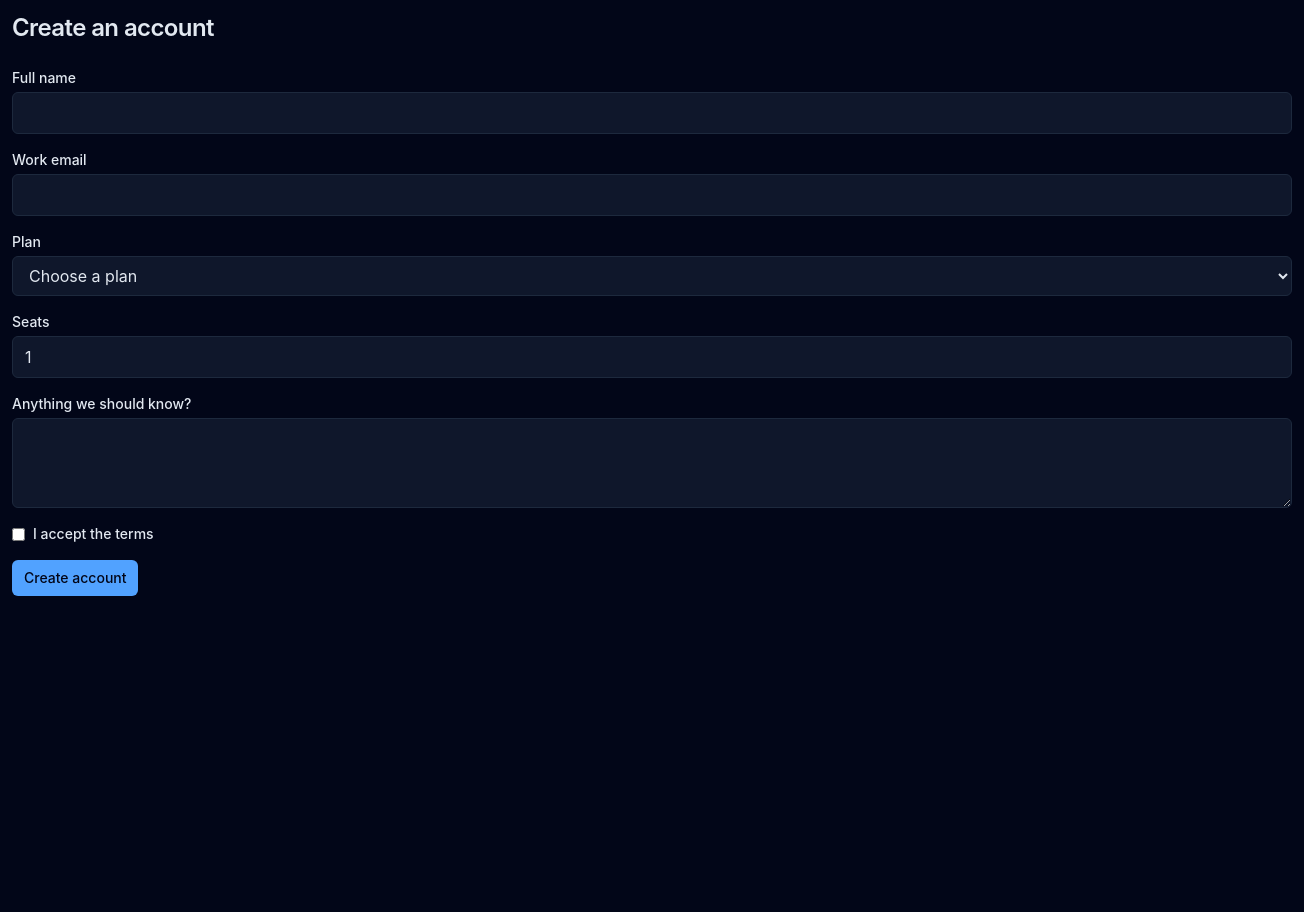
Test: SignupPage › distinguishes a malformed email from a missing one
This screenshot has width=1304, height=912.
Type "dana.whitfield.example.com" into the field with test id "email-input" at (652, 195), box [12, 174, 1292, 216]
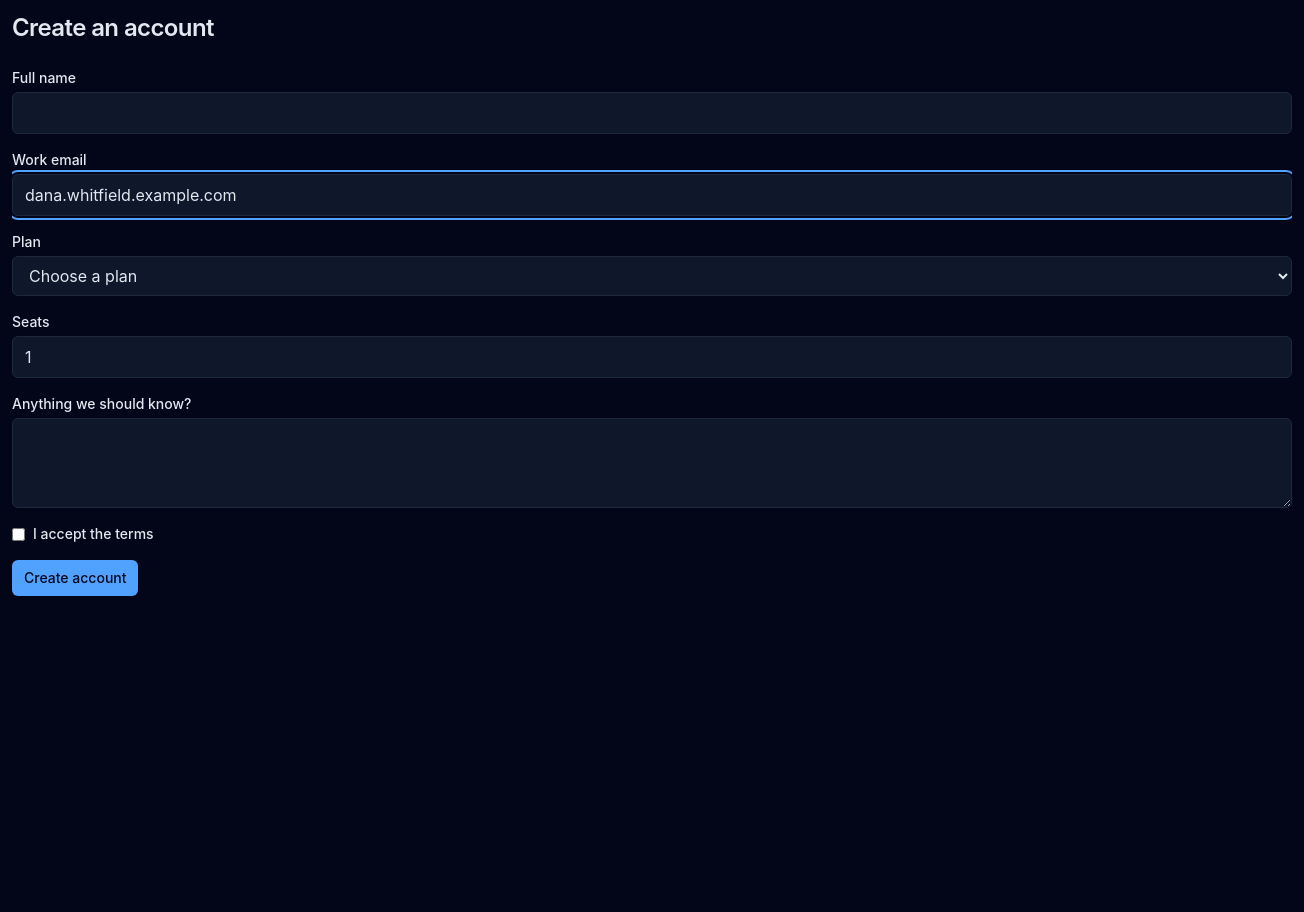
Click the button with test id "submit-button" at (75, 578), box [12, 560, 138, 596]
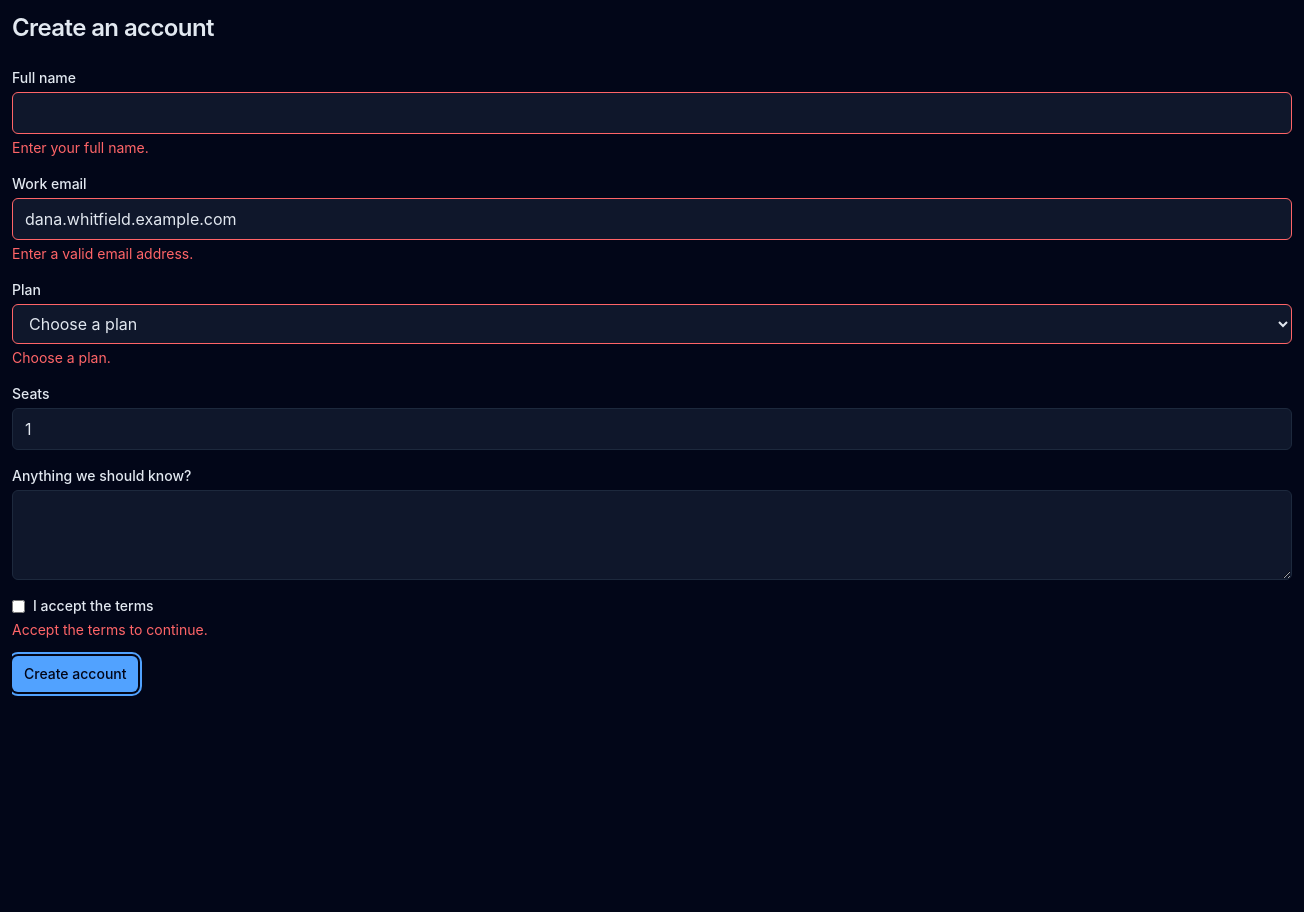
Expected: the text with test id "email-error" reads "Enter a valid email address.", [12, 245, 193, 262]
